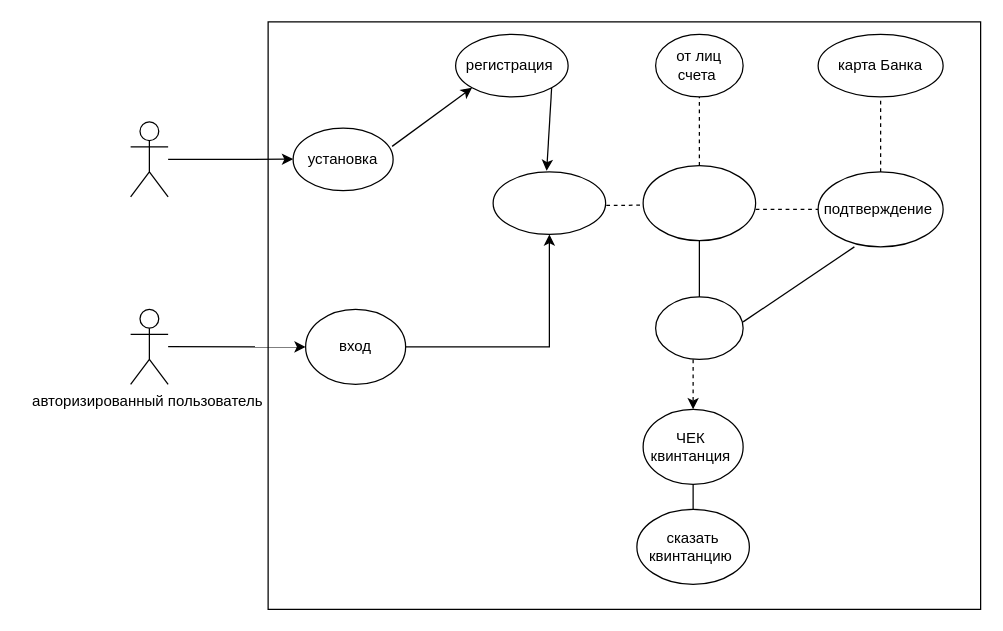
Image size: 1003x631. Some labels were removed from this diagram. Here are the shapes that lost their labels. From the top down, the centre of each, then its label:
At (x=148, y=159): "не авторизированный пользователь".
At (x=549, y=202): "работа".
At (x=699, y=202): "ввод данных".
At (x=698, y=327): "оплата".
